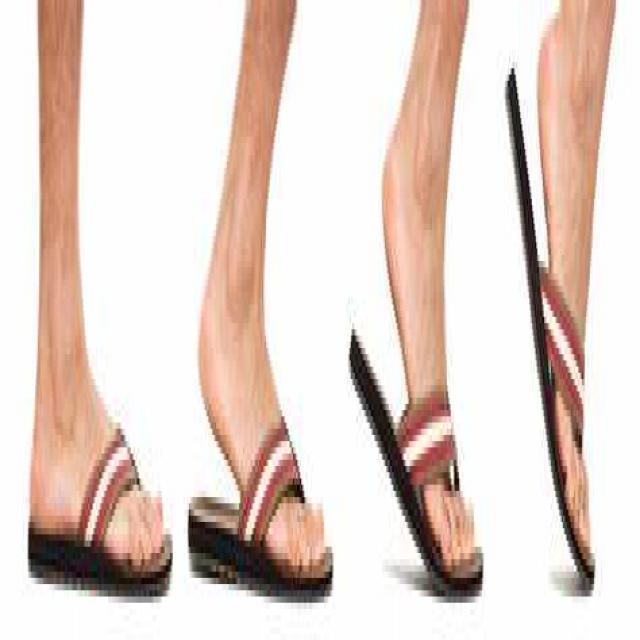No_Shoe: (500, 14, 620, 603), (349, 122, 483, 596), (21, 289, 176, 600), (190, 298, 333, 632)
